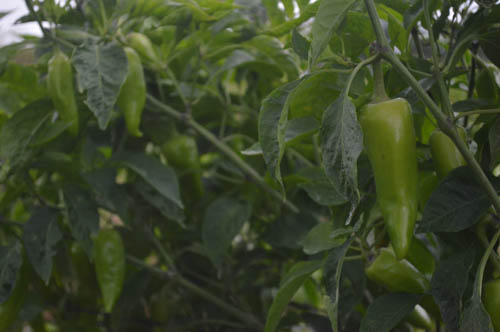ChiliPepper: (358, 102, 416, 255), (371, 250, 434, 305), (92, 228, 128, 309), (163, 137, 203, 190), (117, 50, 138, 136), (432, 130, 470, 177), (52, 58, 76, 130)
